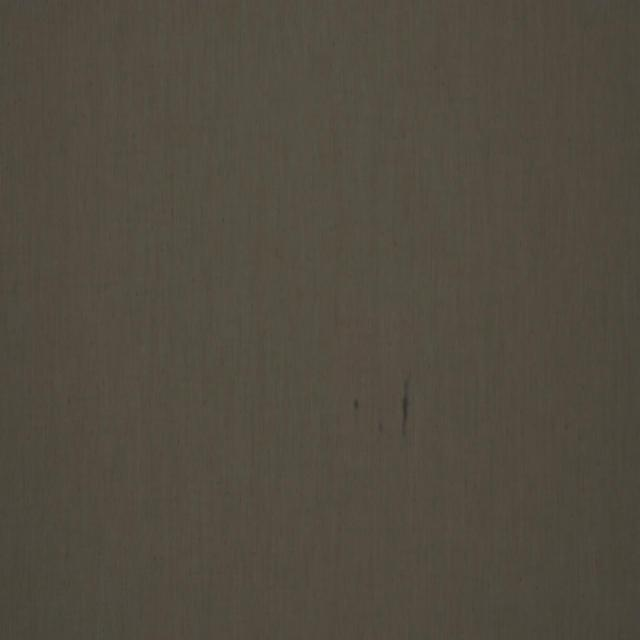dirty: (398, 372, 413, 442), (354, 397, 358, 414), (378, 425, 382, 437)
